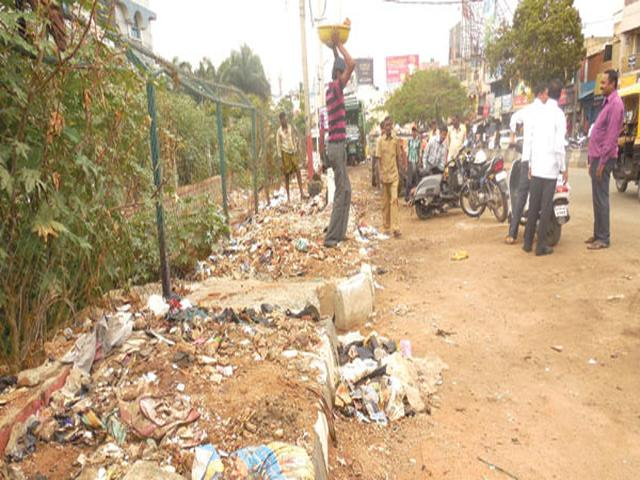garbage: (90, 308, 316, 468), (232, 214, 321, 283)
